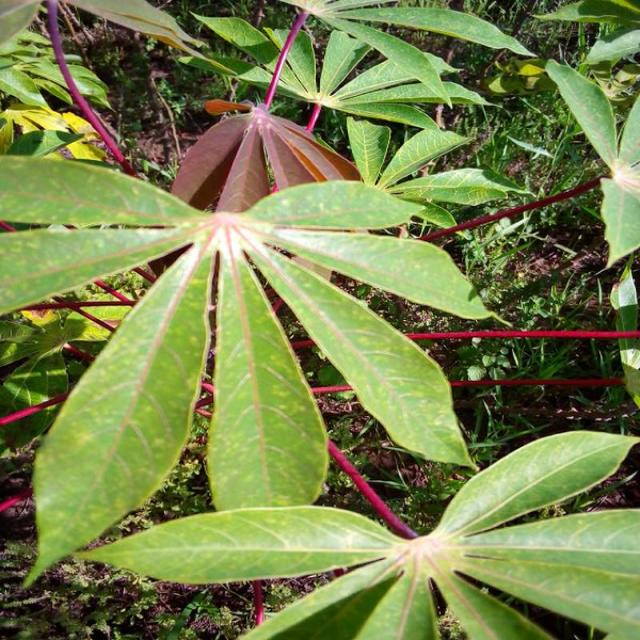cassava leaf: (2, 103, 492, 589)
